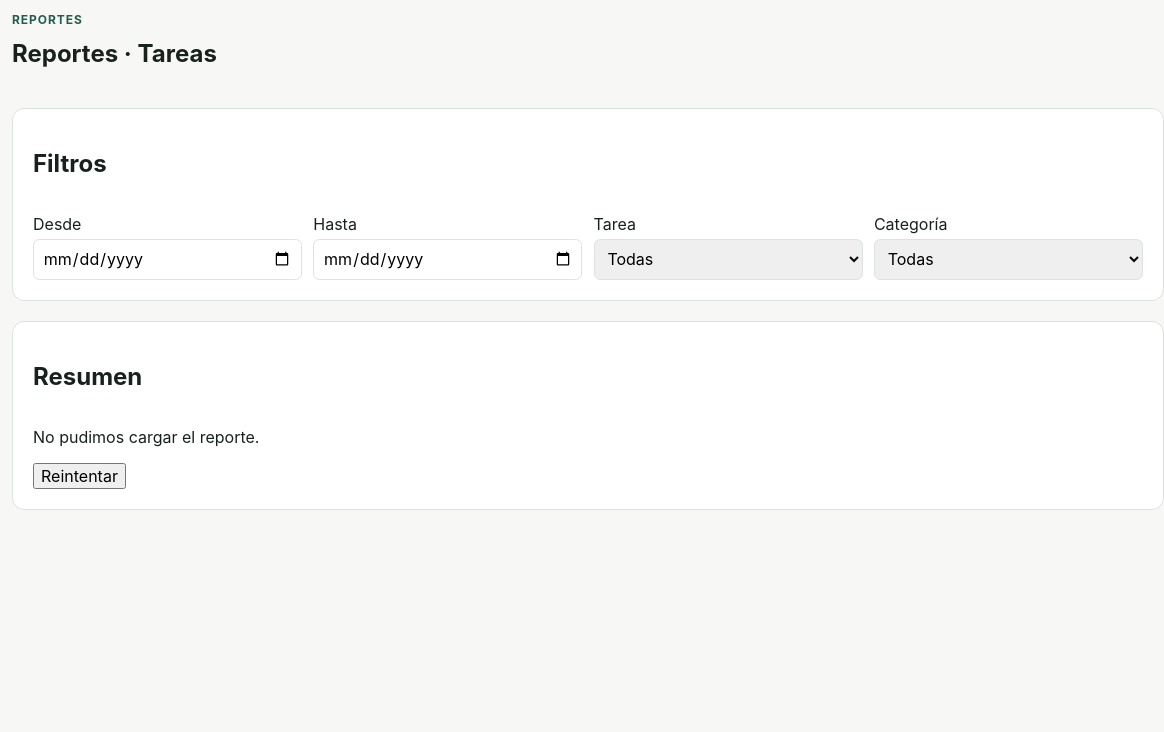
TaskReportsPage › handles report errors with retry
This screenshot has width=1164, height=732.
Check: the text "No pudimos cargar el reporte." is shown, box [33,427,260,447]
Click the button "Reintentar" at (79, 476), box [33,463,126,489]
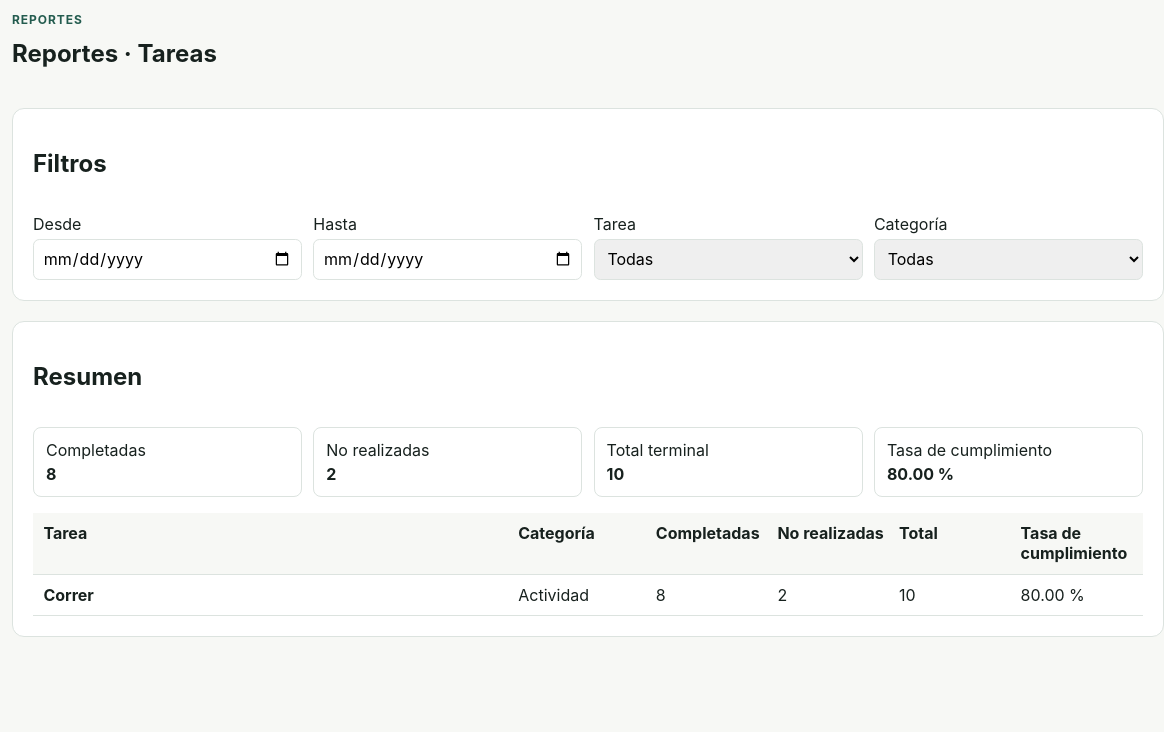
Check: the text "80.00 %" is shown 2 times, box [887,464,954,484]; [1021,585,1085,605]
